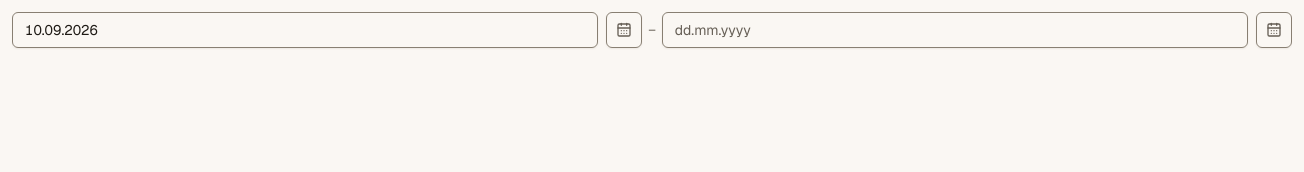
a date range never runs backwards › holds back an end typed before the start and says why, next to the field
Type "01092026" into the field with id "range-to" at (955, 30), box [662, 12, 1248, 48]
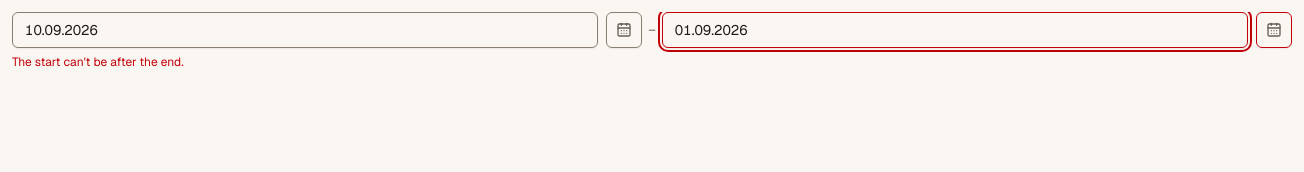
Result: the message reads "The start can't be after the end." at [12, 54, 184, 70]
